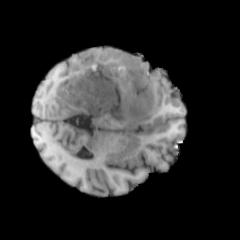glioma: (44, 48, 159, 123)
